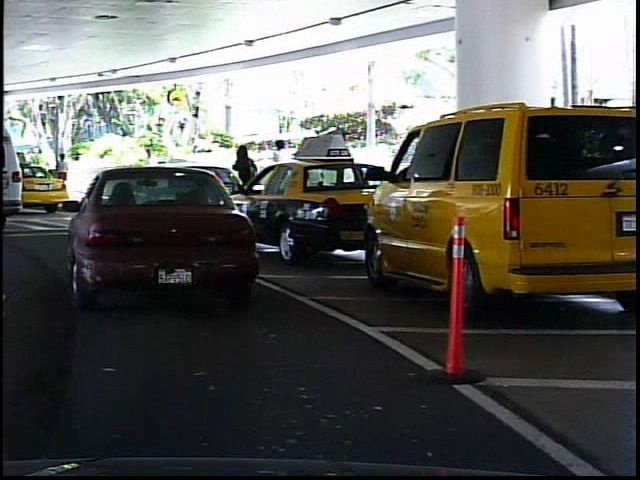person: (228, 138, 264, 216), (267, 135, 296, 211), (137, 143, 162, 204), (52, 150, 74, 197)
